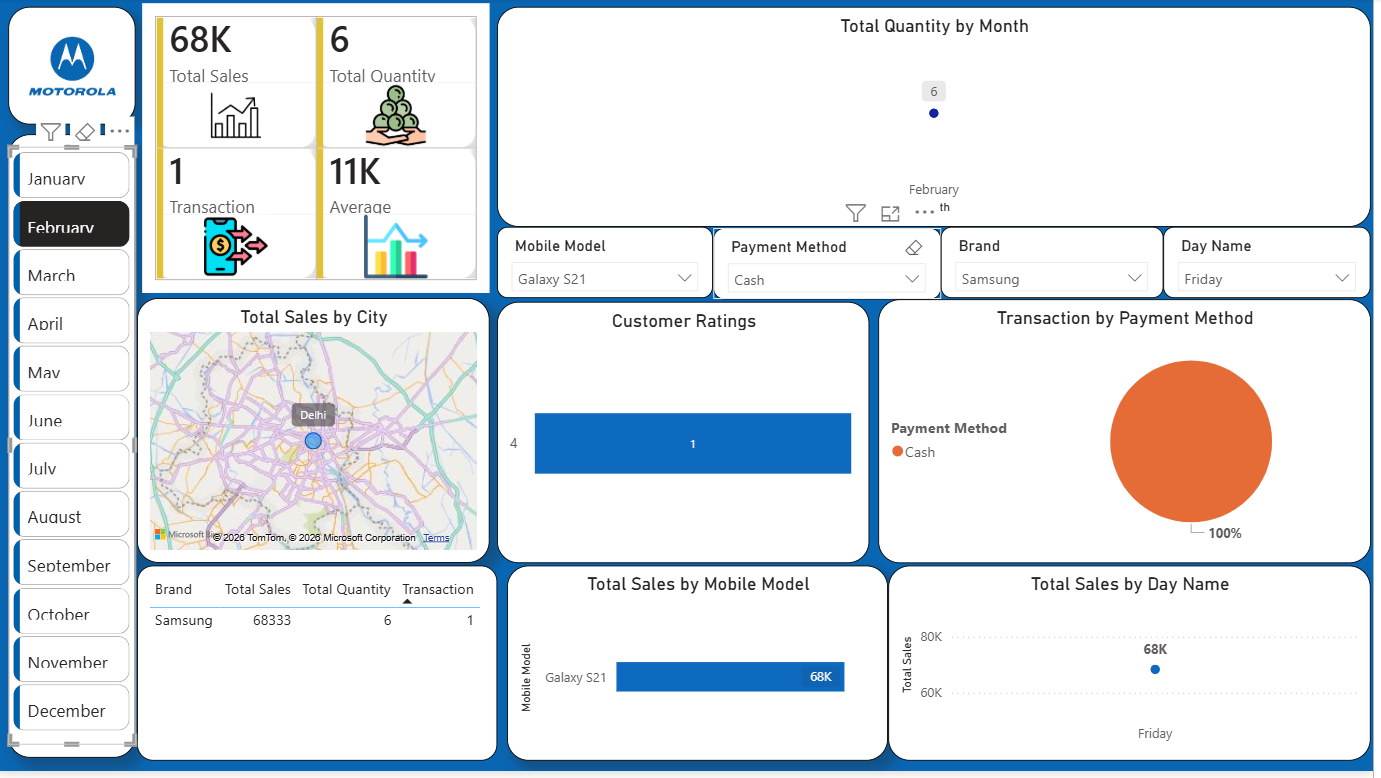

What the dashboard file says about the page in this screenshot:
{"tool":"powerbi","page":{"name":"Page 1","canvas":[1280,720],"ordinal":0},"visuals":[{"type":"shape","box":[10.5,8.1,118.6,109.3],"z":0},{"type":"image","box":[18.6,19.8,101.2,87.2],"z":1000},{"type":"shape","box":[10.5,126.7,118.6,580.2],"z":2000},{"type":"advancedSlicerVisual","fields":{"Values":["Sales_Data.Date.Variation.Date Hierarchy.Month"]},"box":[10.5,138.4,118.6,557],"z":3000},{"type":"cardVisual","fields":{"Data":["Sales_Data.Total Sales","Sales_Data.Total Quantity","Sales_Data.Transaction","Sales_Data.Average"]},"box":[130.2,0,334.9,279.1],"z":4000},{"type":"map","fields":{"Size":["Sales_Data.Total Sales"],"Category":["Sales_Data.City"]},"box":[130.2,279.1,327.9,246.5],"z":5000},{"type":"lineChart","fields":{"Category":["Sales_Data.Date.Variation.Date Hierarchy.Month","Sales_Data.Date.Variation.Date Hierarchy.Day"],"Y":["Sales_Data.Total Quantity"]},"box":[465.1,8.1,812.8,204.7],"z":6000},{"type":"clusteredBarChart","fields":{"Category":["Sales_Data.Mobile Model"],"Y":["Sales_Data.Total Sales"]},"box":[474.4,527.9,354.7,181.4],"z":7000},{"type":"pieChart","fields":{"Category":["Sales_Data.Payment Method"],"Y":["Sales_Data.Transaction"]},"box":[819.8,280.2,458.1,245.3],"z":8000},{"type":"funnel","title":"Customer Ratings","fields":{"Category":["Sales_Data.Customer Ratings"],"Y":["CountNonNull(Sales_Data.Customer Ratings)"]},"box":[465.1,282.6,346.5,243],"z":9000},{"type":"areaChart","fields":{"Category":["Sales_Data.Day Name"],"Y":["Sales_Data.Total Sales"]},"box":[829.1,527.9,448.8,181.4],"z":10000},{"type":"tableEx","fields":{"Values":["Sales_Data.Brand","Sales_Data.Total Sales","Sales_Data.Total Quantity","Sales_Data.Transaction"]},"box":[130.2,527.9,334.9,181.4],"z":11000},{"type":"slicer","fields":{"Values":["Sales_Data.Mobile Model"]},"box":[465.1,212.8,201.2,66.3],"z":12000},{"type":"slicer","fields":{"Values":["Sales_Data.Payment Method"]},"box":[666.3,214,211.6,66.3],"z":13000},{"type":"slicer","fields":{"Values":["Sales_Data.Brand"]},"box":[877.9,212.8,207,66.3],"z":14000},{"type":"slicer","fields":{"Values":["Sales_Data.Day Name"]},"box":[1084.9,212.8,193,66.3],"z":15000}]}

Visuals, with their boxes in screenshot pixels (x1, y1, x2, y2), scaled from the page's 1280x720 canvas onto the 1381x778 screenshot:
shape: detection(11, 9, 139, 127)
image: detection(20, 21, 129, 116)
shape: detection(11, 137, 139, 764)
advancedSlicerVisual - Sales_Data.Date.Variation.Date Hierarchy.Month: detection(11, 150, 139, 751)
cardVisual - Sales_Data.Total Sales x Sales_Data.Total Quantity: detection(140, 0, 502, 302)
map - Sales_Data.Total Sales x Sales_Data.City: detection(140, 302, 494, 568)
lineChart - Sales_Data.Date.Variation.Date Hierarchy.Month x Sales_Data.Date.Variation.Date Hierarchy.Day: detection(502, 9, 1379, 230)
clusteredBarChart - Sales_Data.Mobile Model x Sales_Data.Total Sales: detection(512, 570, 895, 766)
pieChart - Sales_Data.Payment Method x Sales_Data.Transaction: detection(884, 303, 1379, 568)
"Customer Ratings" funnel: detection(502, 305, 876, 568)
areaChart - Sales_Data.Day Name x Sales_Data.Total Sales: detection(895, 570, 1379, 766)
tableEx - Sales_Data.Brand x Sales_Data.Total Sales: detection(140, 570, 502, 766)
slicer - Sales_Data.Mobile Model: detection(502, 230, 719, 302)
slicer - Sales_Data.Payment Method: detection(719, 231, 947, 303)
slicer - Sales_Data.Brand: detection(947, 230, 1171, 302)
slicer - Sales_Data.Day Name: detection(1171, 230, 1379, 302)
